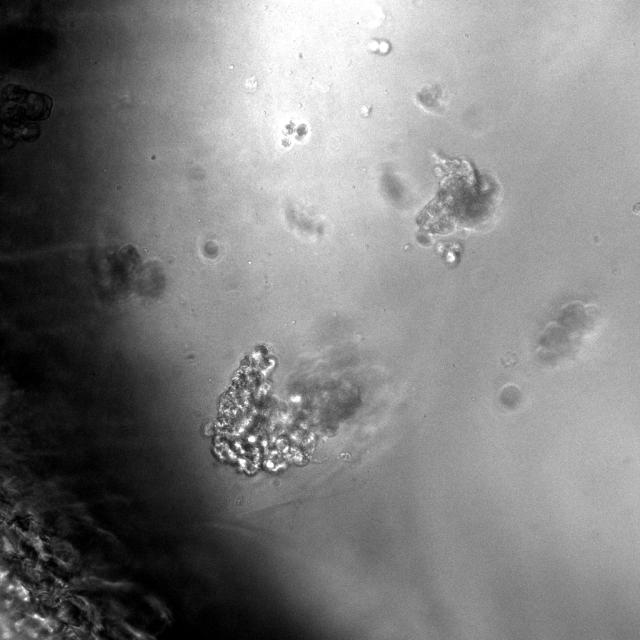organoid: (206, 344, 381, 475), (416, 153, 501, 266), (86, 244, 166, 302), (536, 300, 598, 366), (280, 116, 309, 148), (499, 383, 522, 409), (368, 39, 391, 55), (203, 240, 219, 259)
